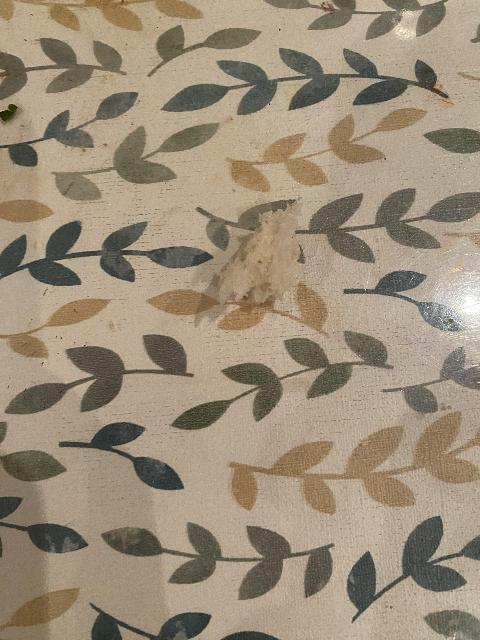Organik: (208, 189, 324, 316), (2, 92, 24, 137)
